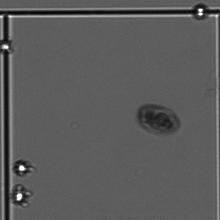Dead Cell: (139, 98, 182, 140)
Living Cell: (11, 184, 37, 205), (192, 3, 210, 24), (1, 34, 14, 62), (14, 157, 30, 174)
